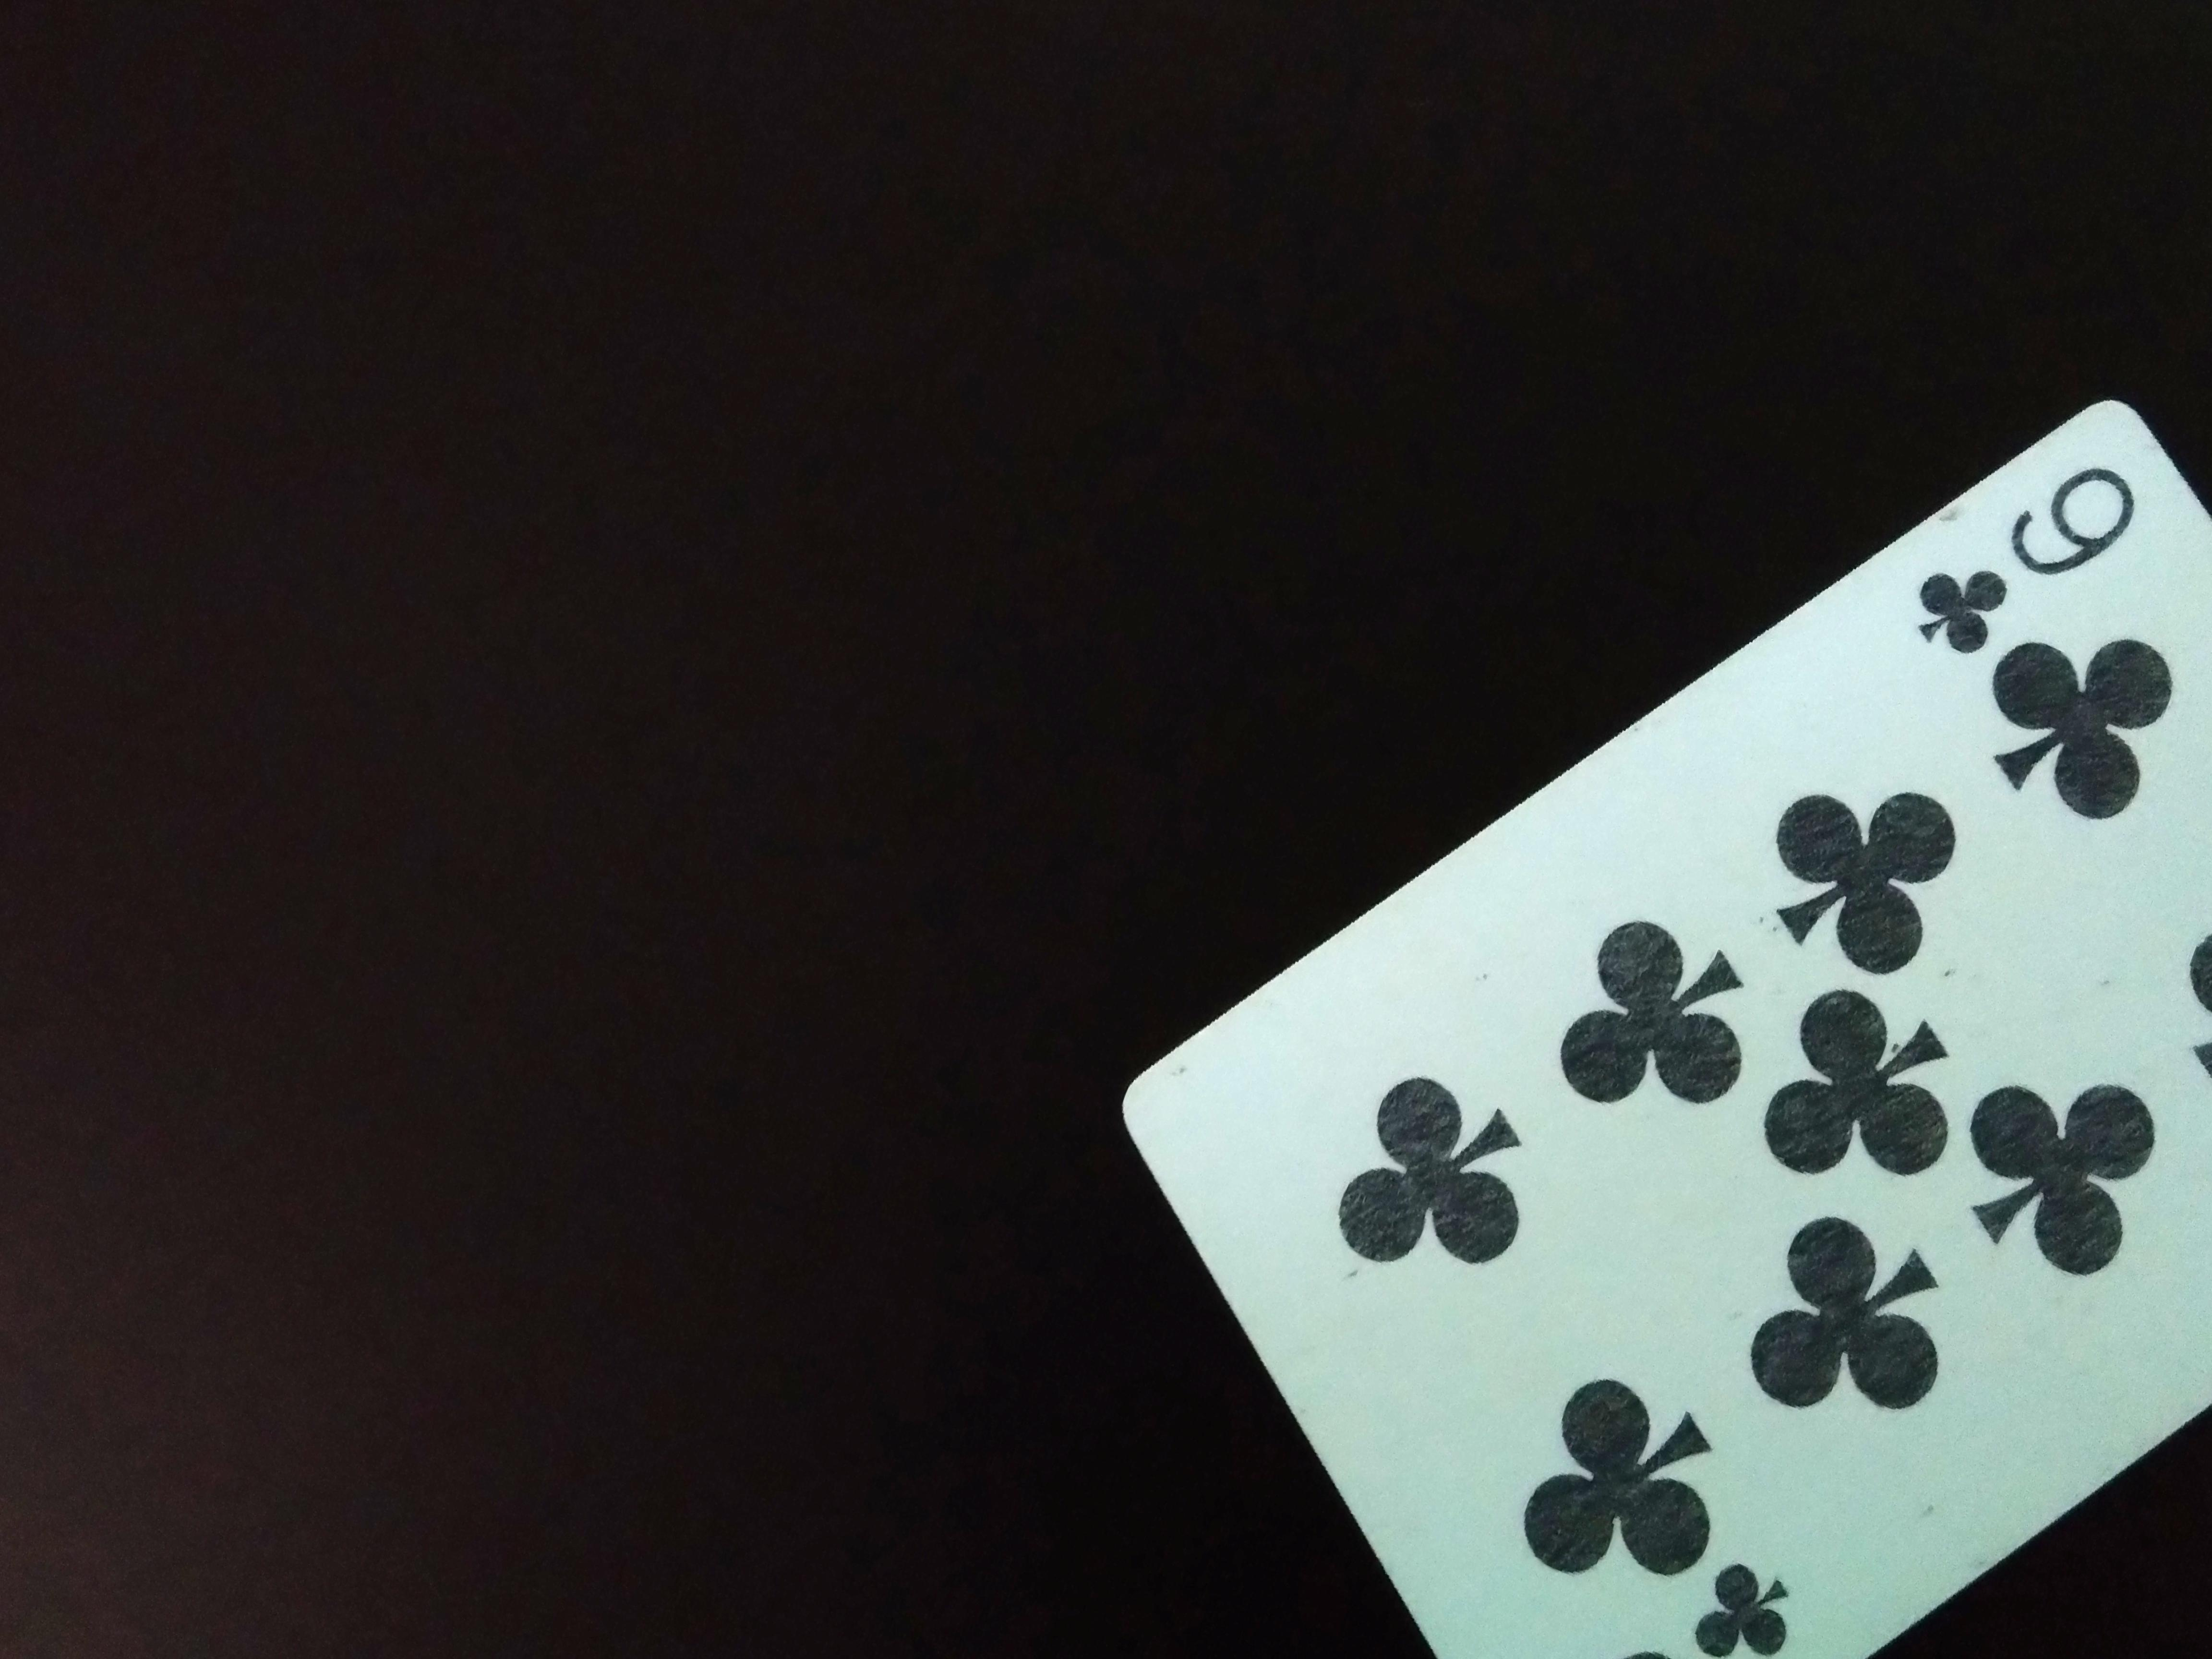9C: (1892, 446, 2148, 671)
